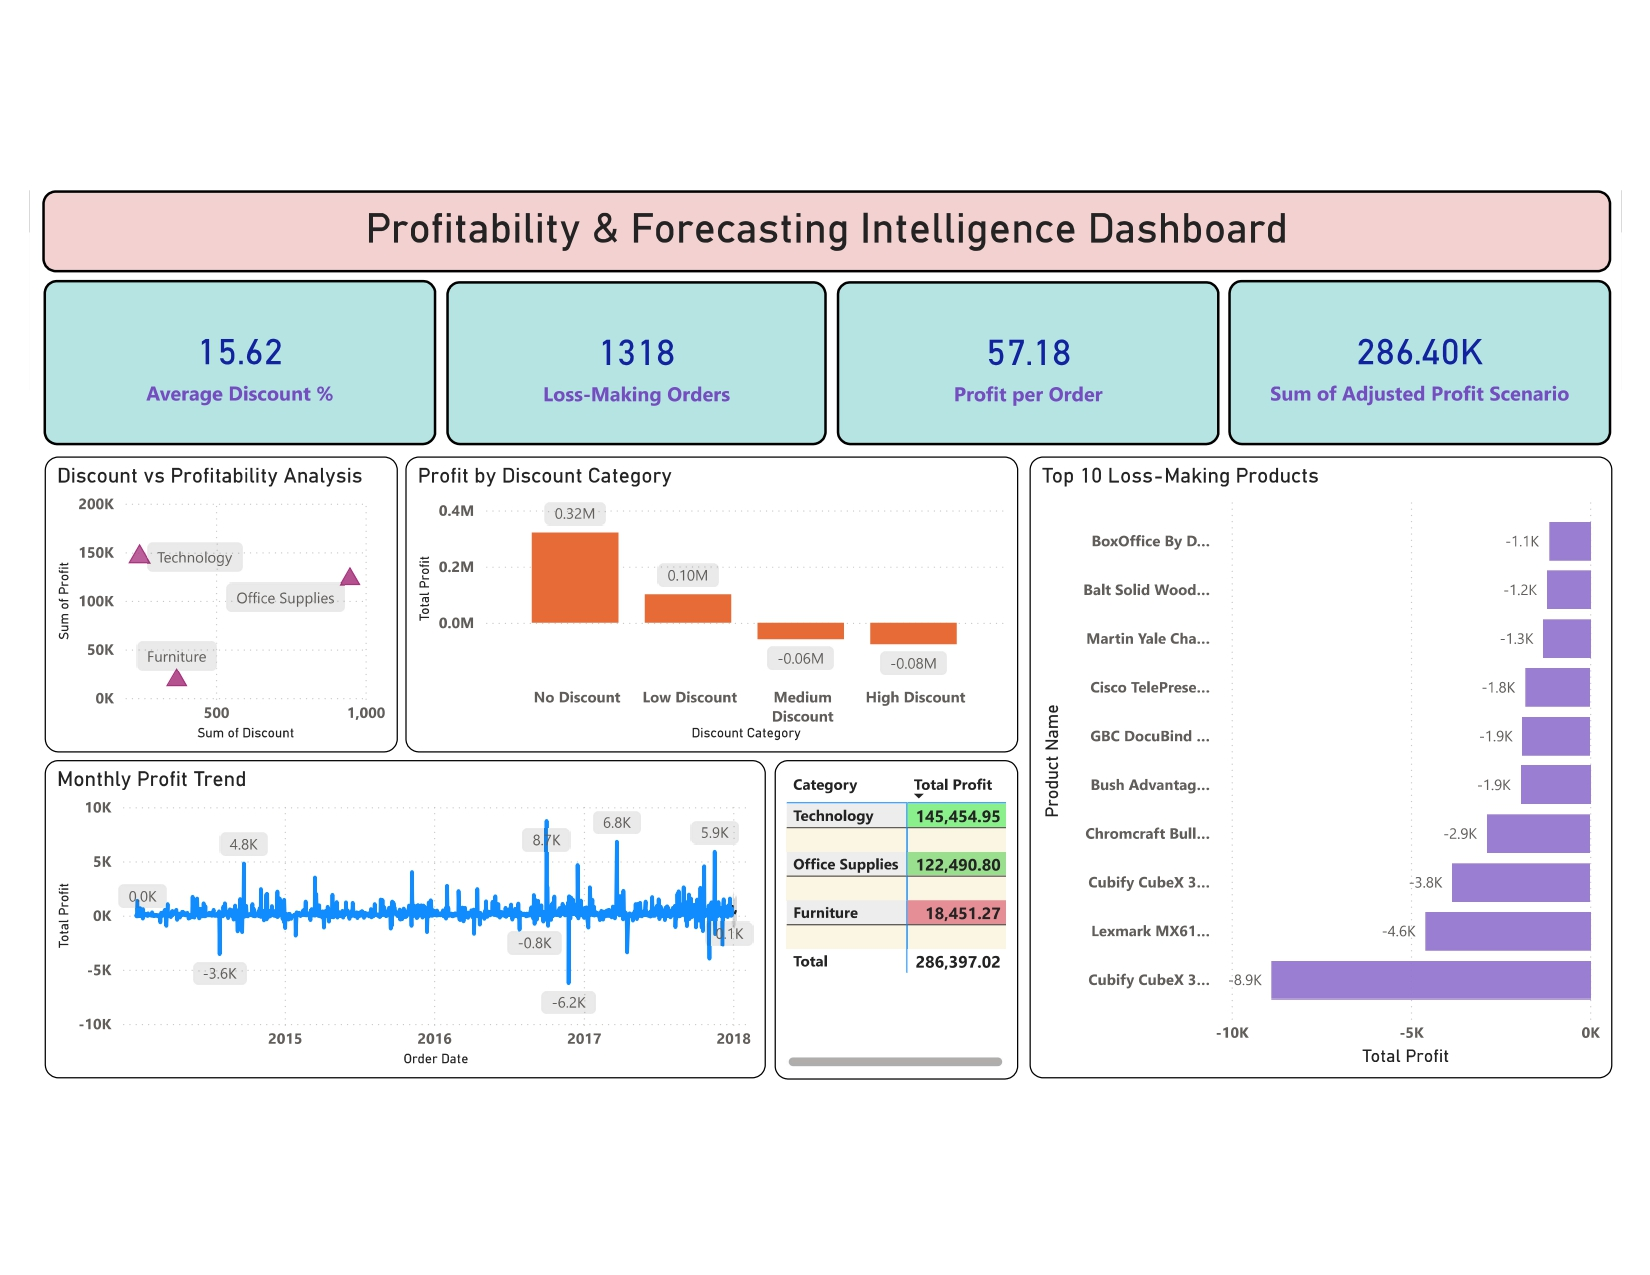

The dashboard page shown, as its layout file describes it:
{"tool":"powerbi","page":{"name":"Profitability & Forecasting","canvas":[1280,720],"ordinal":2},"visuals":[{"type":"textbox","box":[10,0,1262.5,66.2],"z":0},{"type":"card","fields":{"Values":["Sample - Superstore.Average Discount %"]},"box":[10.9,71.6,315.6,133.3],"z":1},{"type":"card","fields":{"Values":["Sample - Superstore.Loss-Making Orders"]},"box":[334.7,73.5,306.6,131.5],"z":2},{"type":"card","fields":{"Values":["Sample - Superstore.Profit per Order"]},"box":[649.4,72.6,307.5,132.4],"z":3},{"type":"scatterChart","title":"Discount vs Profitability Analysis","fields":{"X":["Sum(Sample - Superstore.Discount)"],"Y":["Sum(Sample - Superstore.Profit)"],"Size":["Sample - Superstore.Total Revenue"],"Category":["Sample - Superstore.Category"]},"box":[11.8,214,283.9,237.6],"z":4},{"type":"clusteredColumnChart","title":"Profit by Discount Category","fields":{"Category":["Sample - Superstore.Discount Category"],"Y":["Sample - Superstore.Total Profit"]},"box":[302,214,493.4,237.6],"z":5},{"type":"clusteredBarChart","title":"Top 10 Loss-Making Products","fields":{"Category":["Sample - Superstore.Product Name"],"Y":["Sample - Superstore.Total Profit"]},"box":[803.6,214,469.8,499.7],"z":6},{"type":"pivotTable","fields":{"Rows":["Sample - Superstore.Category"],"Values":["Sample - Superstore.Total Profit"]},"box":[599.5,458,195.9,256.7],"z":7},{"type":"lineChart","title":"Monthly Profit Trend","fields":{"Category":["Sample - Superstore.Order Date"],"Y":["Sample - Superstore.Total Profit"]},"box":[11.8,458,580.5,255.8],"z":8},{"type":"card","fields":{"Values":["Sum(Sample - Superstore.Adjusted Profit Scenario)"]},"box":[964.1,71.6,307.5,133.3],"z":9}]}

Visuals, with their boxes in screenshot pixels (x1, y1, x2, y2):
textbox: l=47, t=189, r=1595, b=270
card - Sample - Superstore.Average Discount %: l=48, t=277, r=435, b=440
card - Sample - Superstore.Loss-Making Orders: l=445, t=279, r=821, b=440
card - Sample - Superstore.Profit per Order: l=831, t=278, r=1208, b=440
"Discount vs Profitability Analysis" scatterChart: l=49, t=451, r=397, b=743
"Profit by Discount Category" clusteredColumnChart: l=405, t=451, r=1010, b=743
"Top 10 Loss-Making Products" clusteredBarChart: l=1020, t=451, r=1596, b=1064
pivotTable - Sample - Superstore.Category x Sample - Superstore.Total Profit: l=769, t=751, r=1010, b=1065
"Monthly Profit Trend" lineChart: l=49, t=751, r=761, b=1064
card - Sum(Sample - Superstore.Adjusted Profit Scenario): l=1217, t=277, r=1594, b=440
